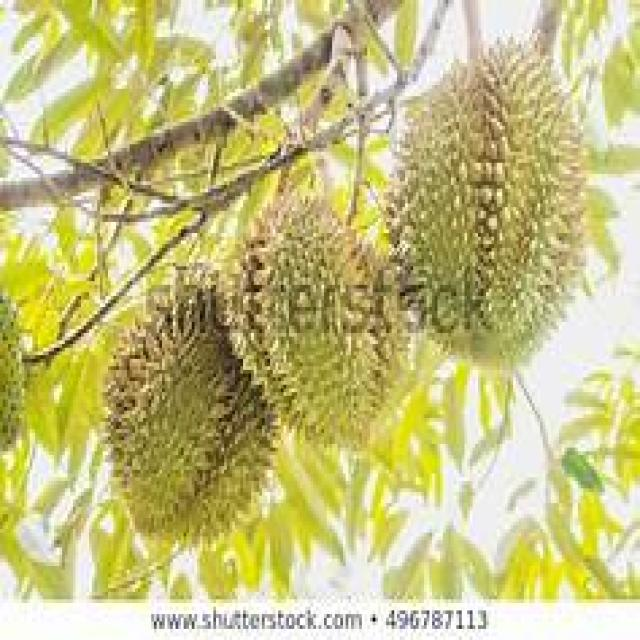immature: (389, 41, 585, 362), (106, 267, 272, 540), (228, 190, 401, 443)
